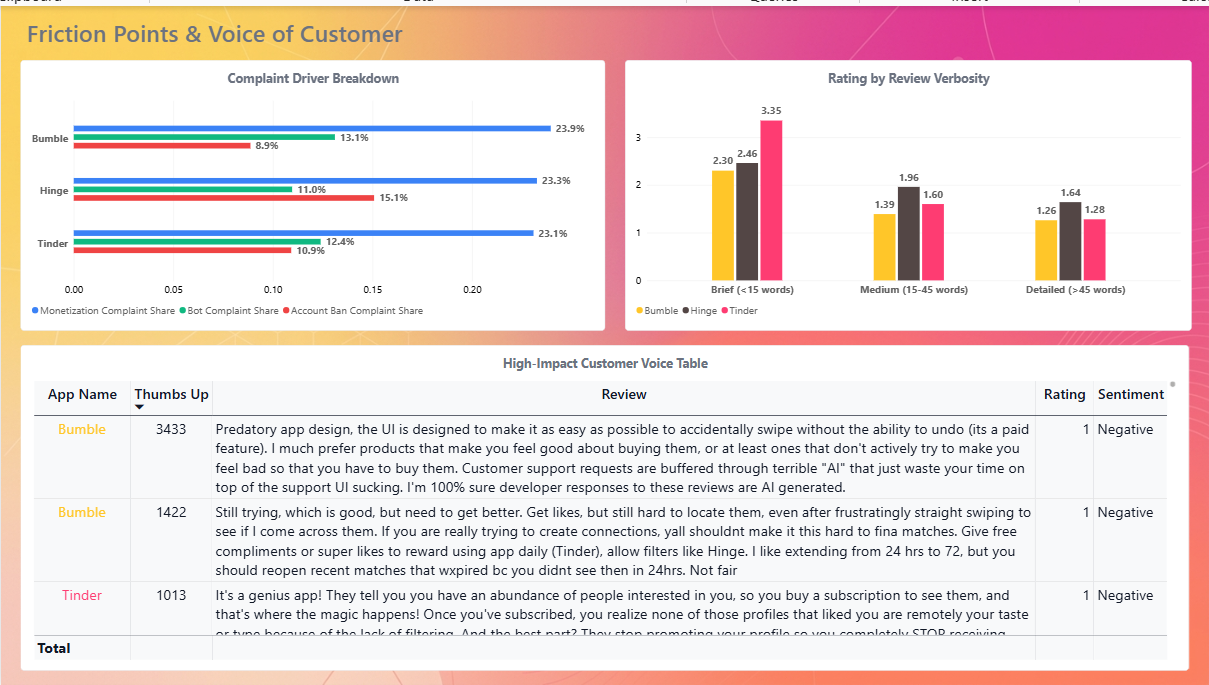

The dashboard page shown, as its layout file describes it:
{"tool":"powerbi","page":{"name":"Friction Points & Voice of Customer","canvas":[1920,1080],"ordinal":1},"visuals":[{"type":"clusteredBarChart","title":"Complaint Driver Breakdown","fields":{"Category":["public vw_dating_reviews_curated.app_name"],"Y":["Measures (2).Monetization Complaint Share","Measures (2).Bot Complaint Share","Measures (2).Account Ban Complaint Share"]},"box":[31.2,85,929.8,430.9],"z":0},{"type":"clusteredColumnChart","title":"Rating by Review Verbosity","fields":{"Category":["public vw_dating_reviews_curated.review_length_bucket"],"Series":["public vw_dating_reviews_curated.app_name"],"Y":["Measures (2).Average Rating"]},"box":[992.1,85,901.4,430.9],"z":1000},{"type":"tableEx","title":"High-Impact Customer Voice Table","fields":{"Values":["public vw_dating_reviews_curated.app_name","public vw_dating_reviews_curated.thumbs_up","public vw_dating_reviews_curated.review_text","public vw_dating_reviews_curated.rating","public vw_dating_reviews_curated.sentiment"]},"box":[31,539.2,1858.6,517.7],"z":2000},{"type":"textbox","box":[31.2,17,643.5,68],"z":3000}]}

Visuals, with their boxes on the page's 1920x1080 design canvas (x1, y1, x2, y2). These are canvas units, not pixel positions in the 1209x685 screenshot, which may show the page scaled, cropped or inside an application window:
"Complaint Driver Breakdown" clusteredBarChart: (x1=31, y1=85, x2=961, y2=516)
"Rating by Review Verbosity" clusteredColumnChart: (x1=992, y1=85, x2=1894, y2=516)
"High-Impact Customer Voice Table" tableEx: (x1=31, y1=539, x2=1890, y2=1057)
textbox: (x1=31, y1=17, x2=675, y2=85)
